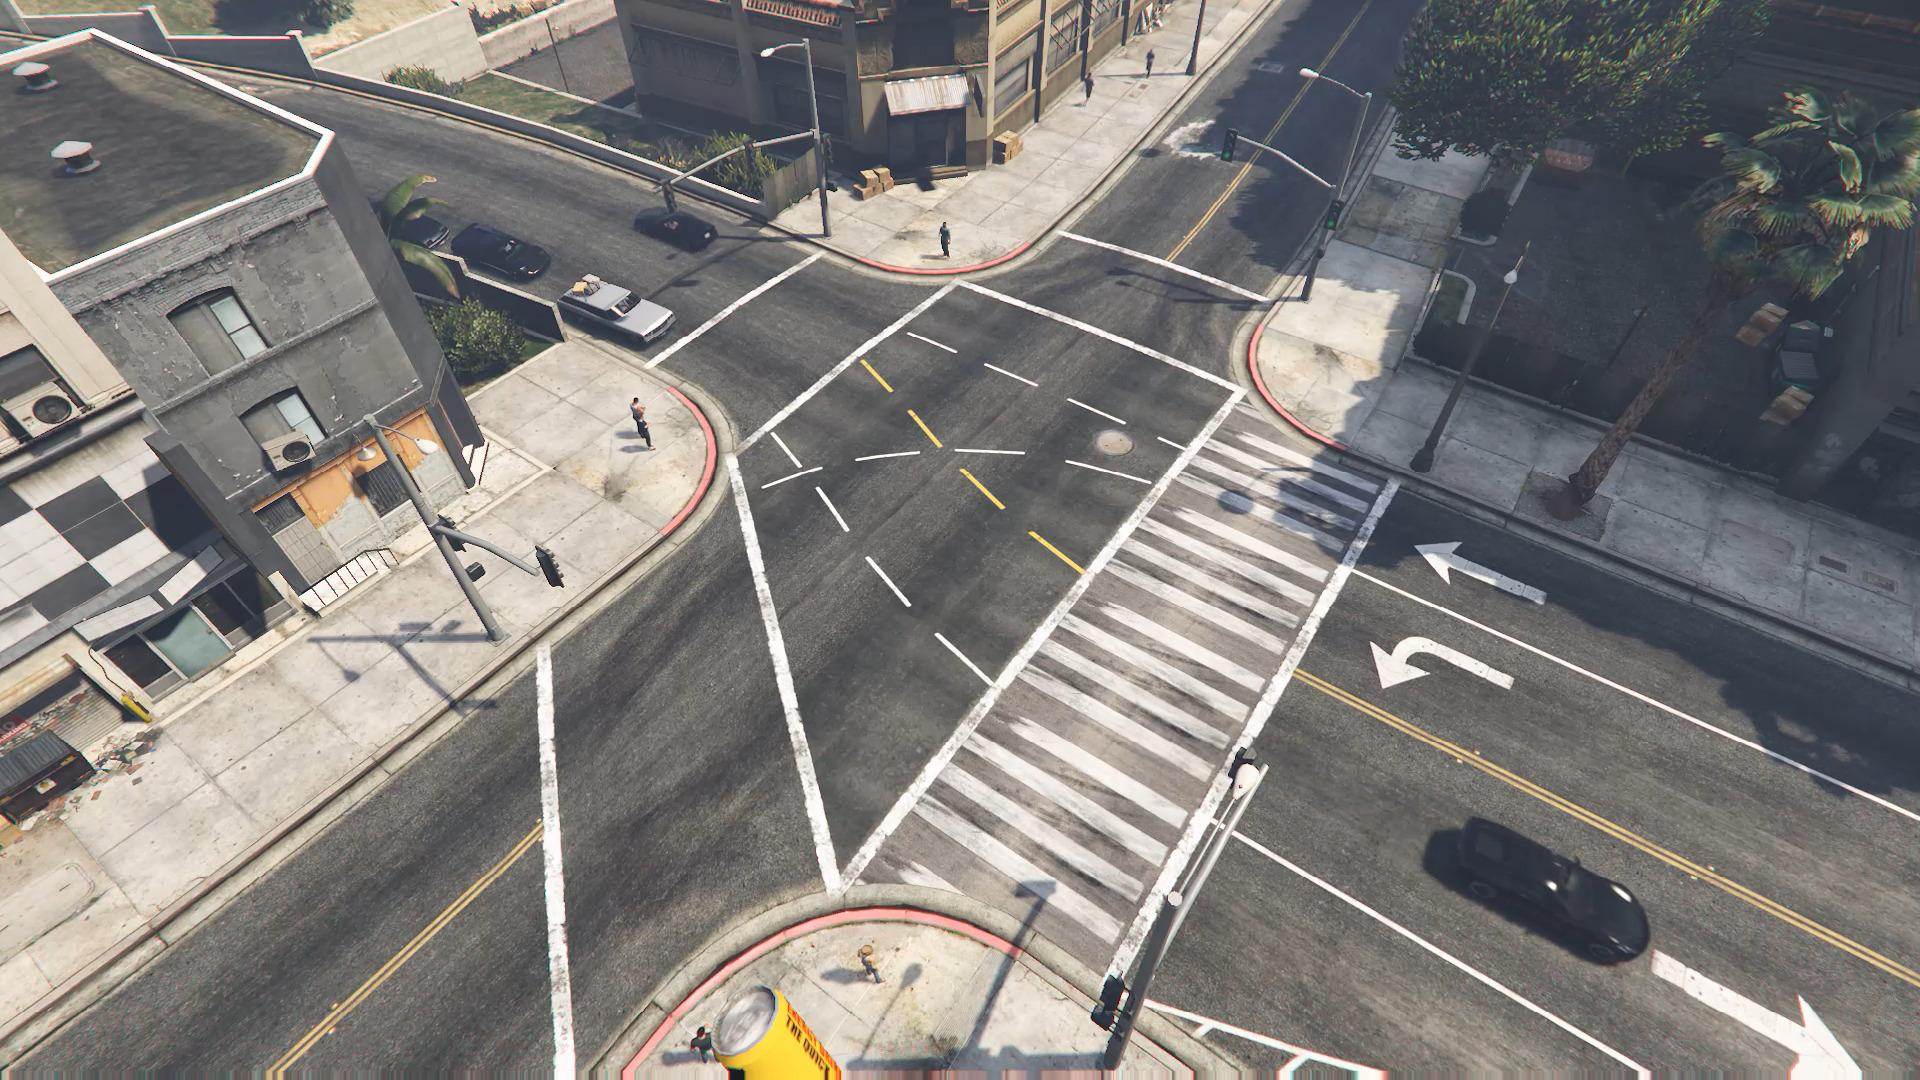car: (1455, 816, 1650, 963), (556, 272, 675, 345), (450, 222, 551, 281), (633, 203, 720, 255), (389, 214, 448, 252)
